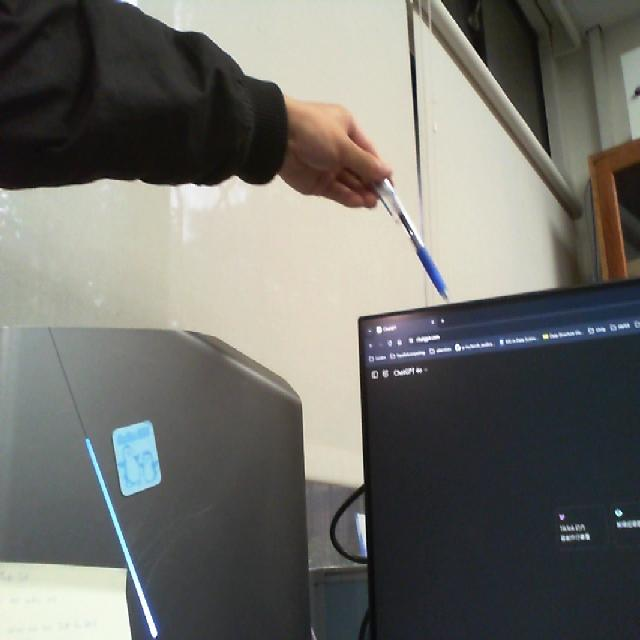Pen: (362, 153, 466, 308)
